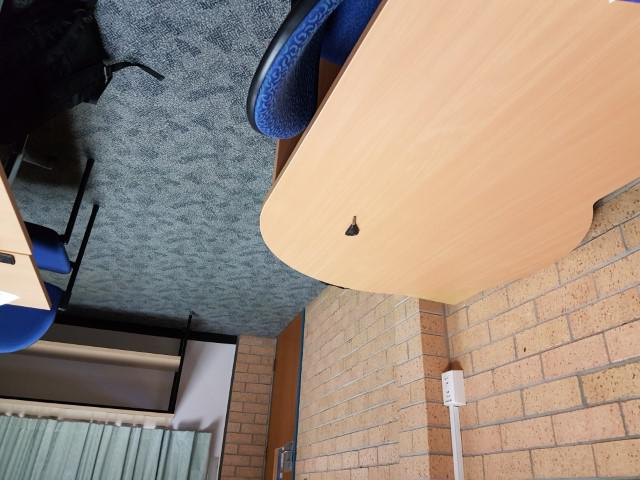key: (344, 213, 361, 238)
